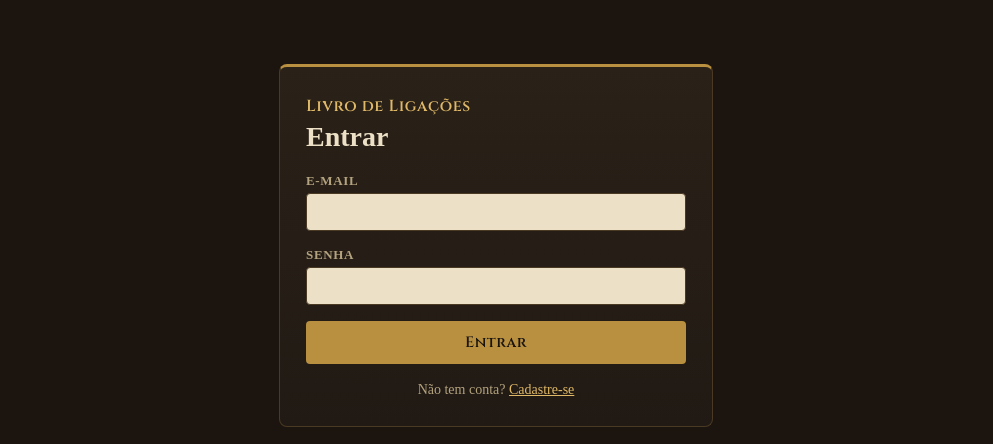
login › entra com e-mail e senha e navega para /campanhas
Type "mestre@example.com" into the field labelled "E-mail". click: point(496, 212)
box: [306,193,686,231]
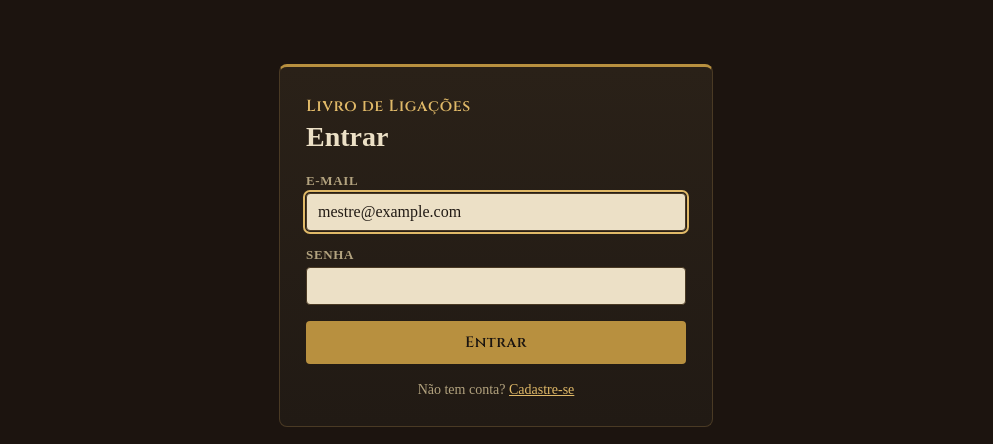
Type "senha-secreta" into the password field labelled "Senha". click: point(496, 286)
box: [306,267,686,305]
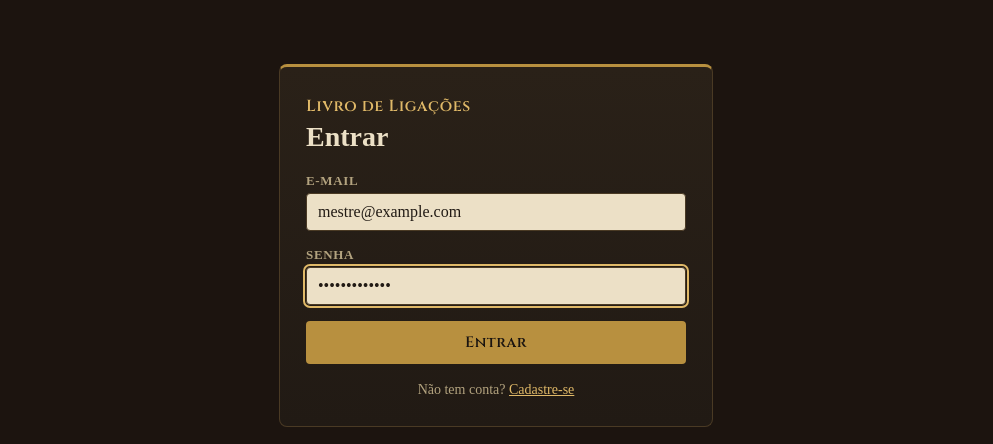
Click the button "Entrar". click: point(496, 342)
box: [306,321,686,364]
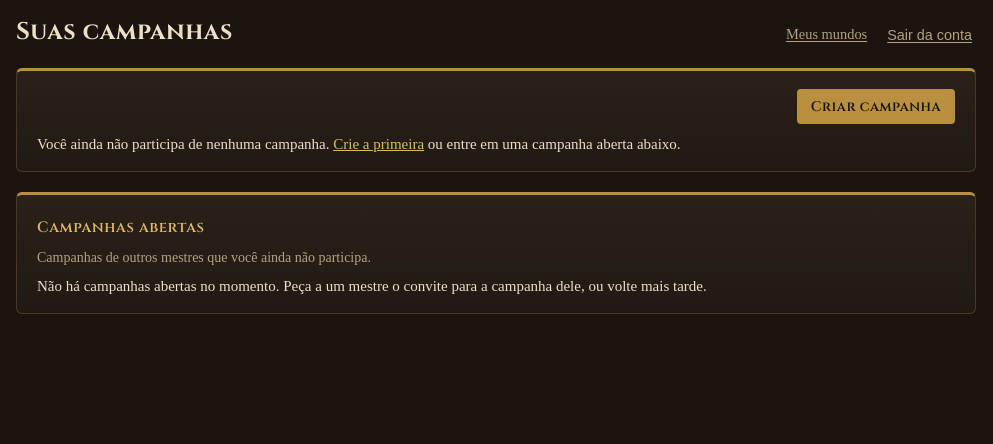
Expected: the heading "Suas campanhas" is shown, [16,16,233,48]
